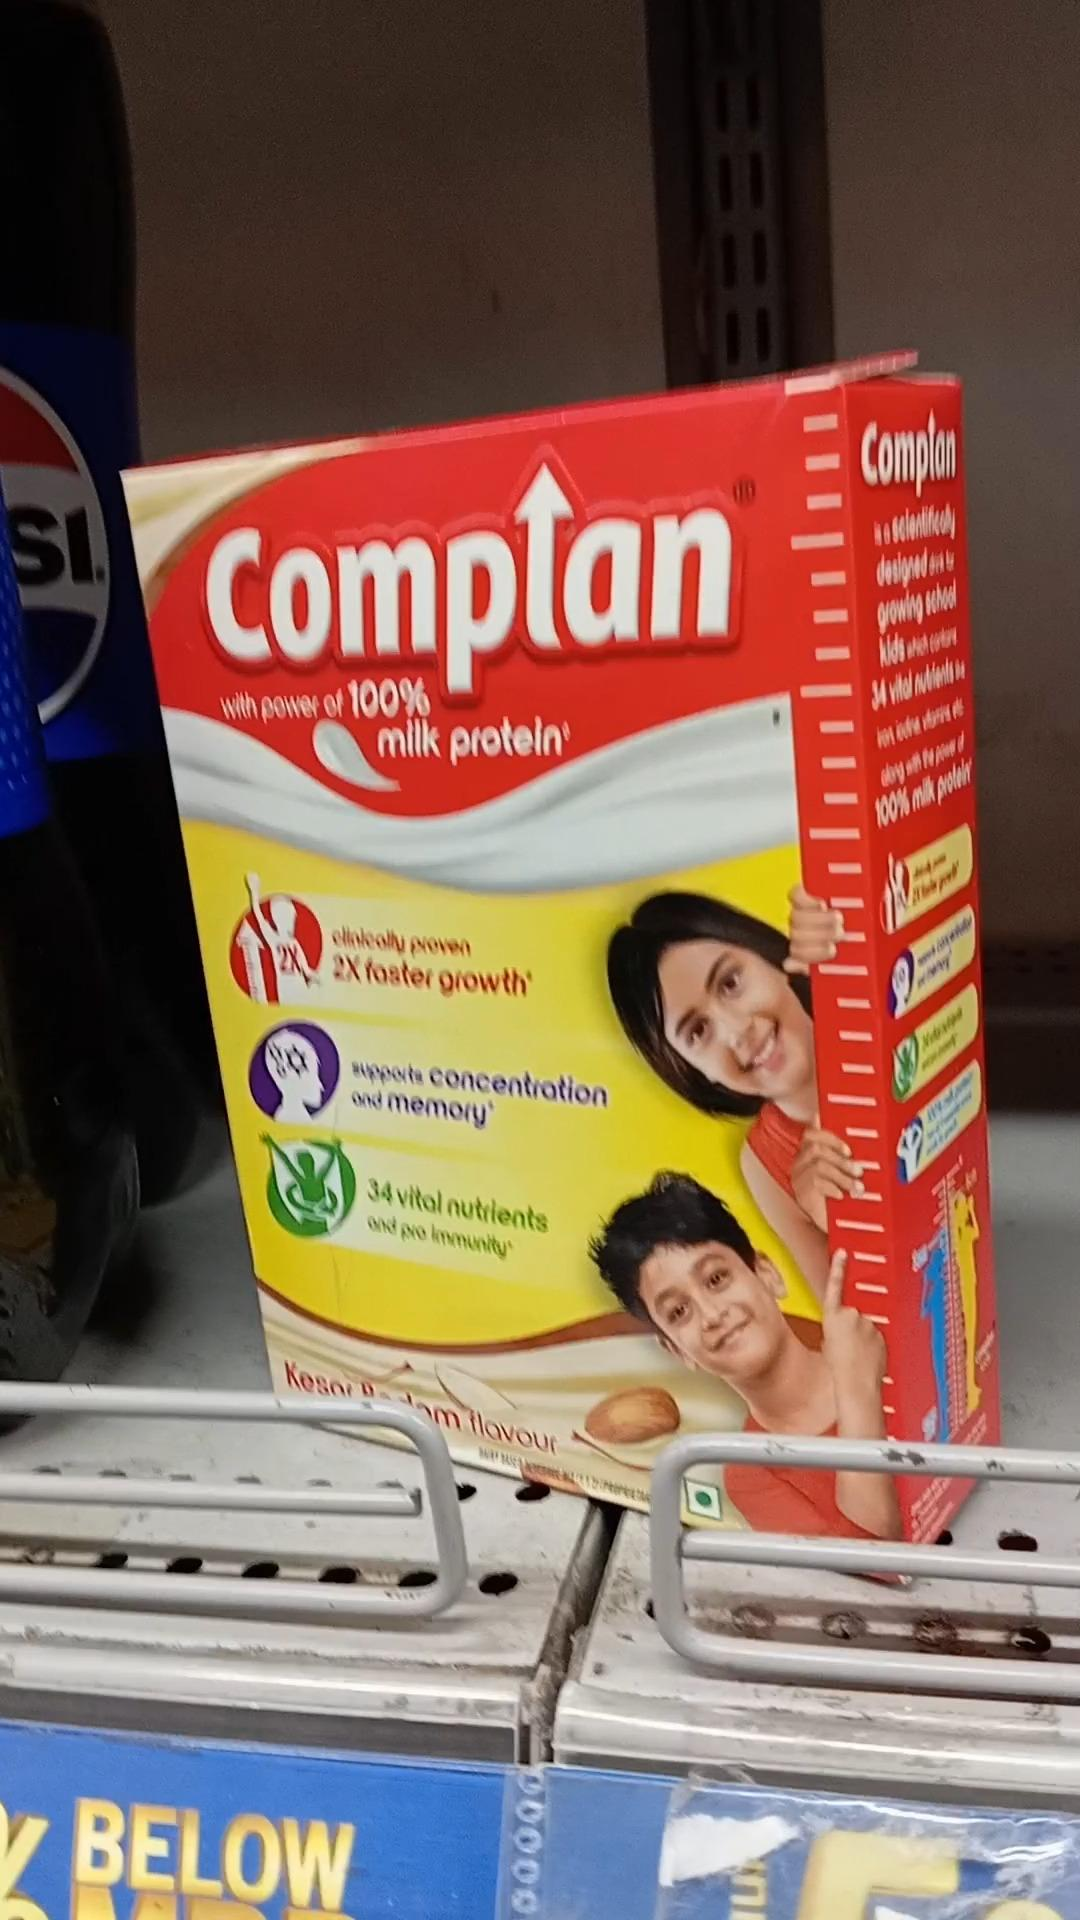COMPLAN_CHOCOLATE_200_GMS_JAR: (211, 456, 901, 1575)
